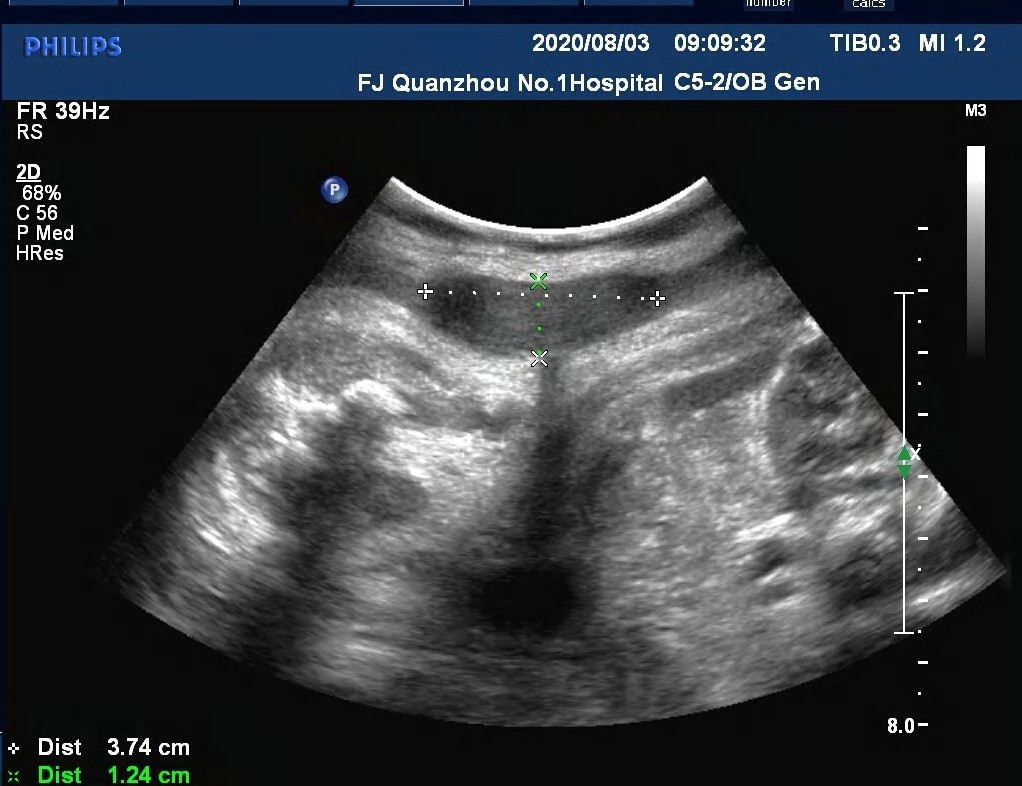肌瘤: (426, 281, 659, 359)
